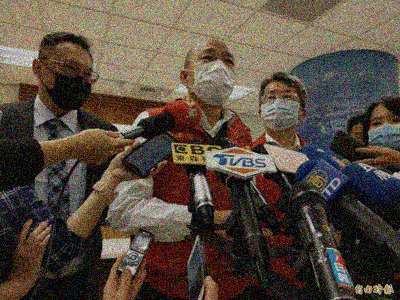with_mask: (42, 54, 94, 110), (188, 46, 236, 106), (261, 88, 303, 130), (368, 112, 400, 151)
